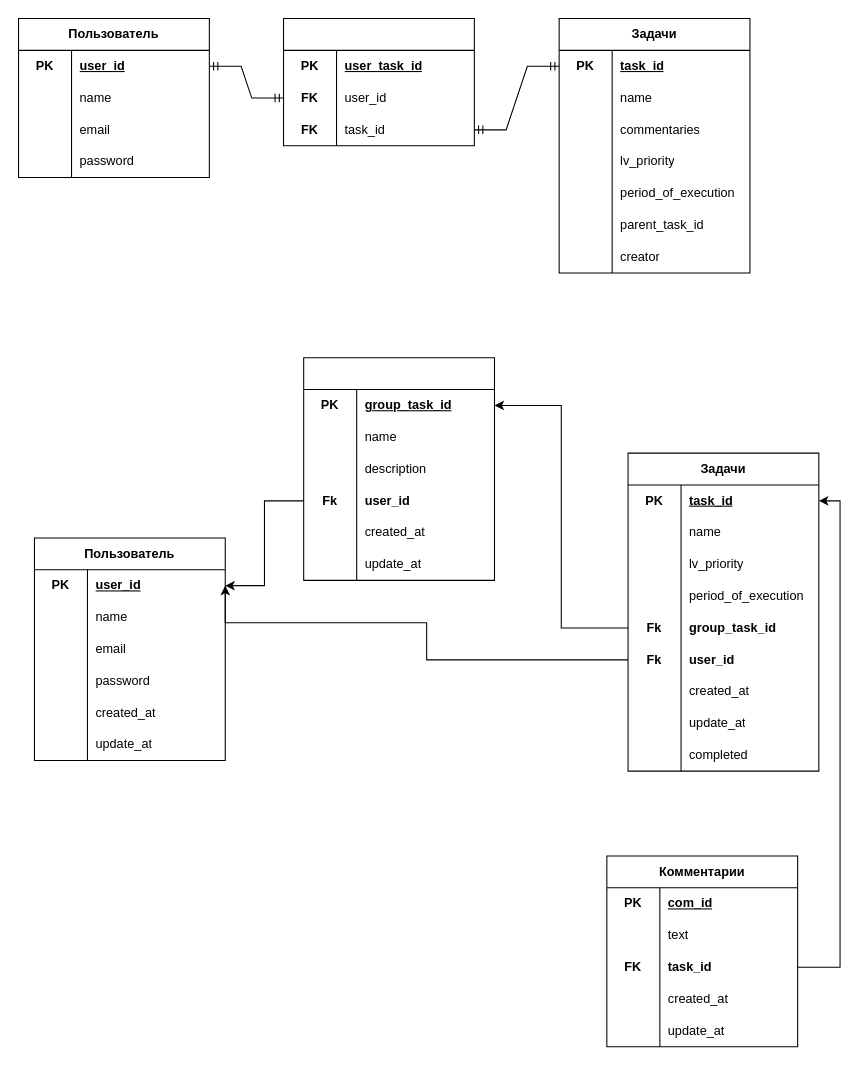
Some shapes in this 867 by 1065 pixel diagram are drawn without their labels. The shapes that lost their labels are listed below. From the top down, each one's box as (x1, y1, x2, y2) in pixels, then its label:
(282, 17, 474, 146): ПользователиЗадачи
(303, 357, 494, 580): ГруппаЗадач
